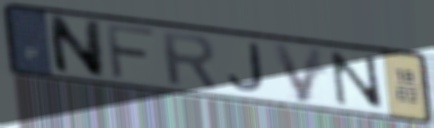F: (103, 21, 158, 83)
J: (225, 41, 267, 94)
N: (45, 13, 107, 80), (327, 49, 388, 111)
R: (157, 28, 221, 91)
V: (268, 41, 327, 105)
